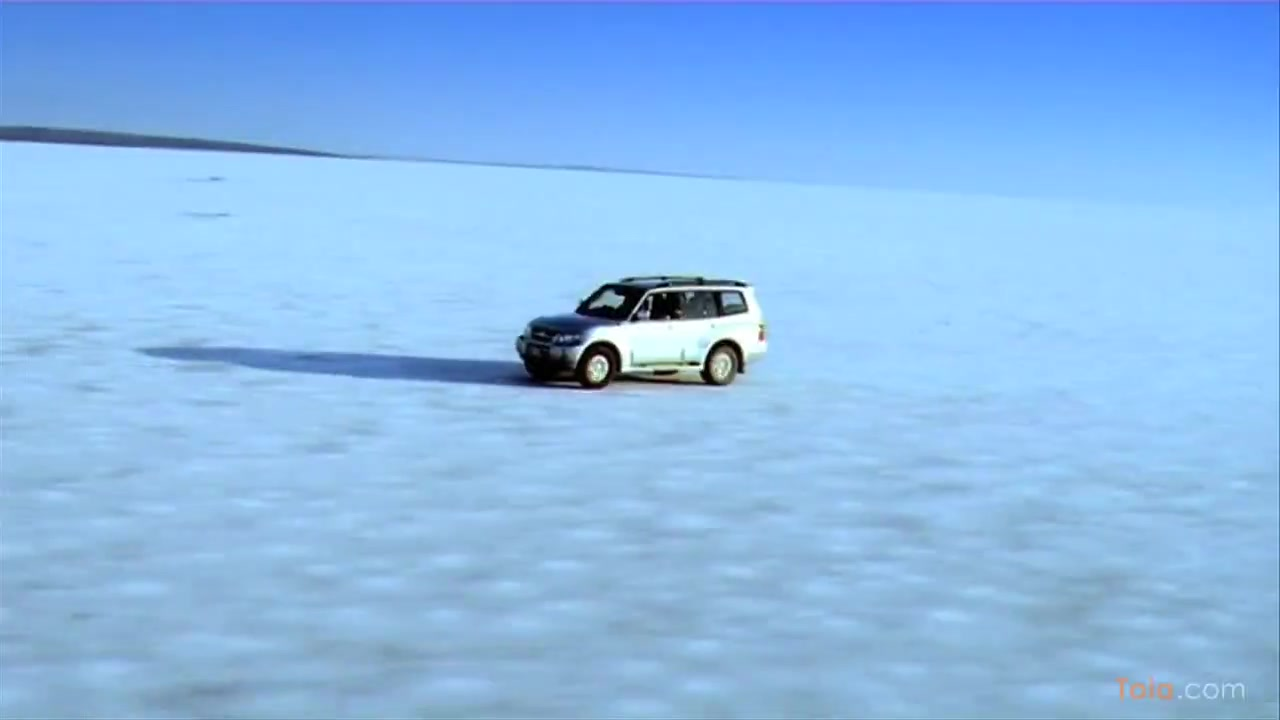car: (515, 274, 773, 392)
